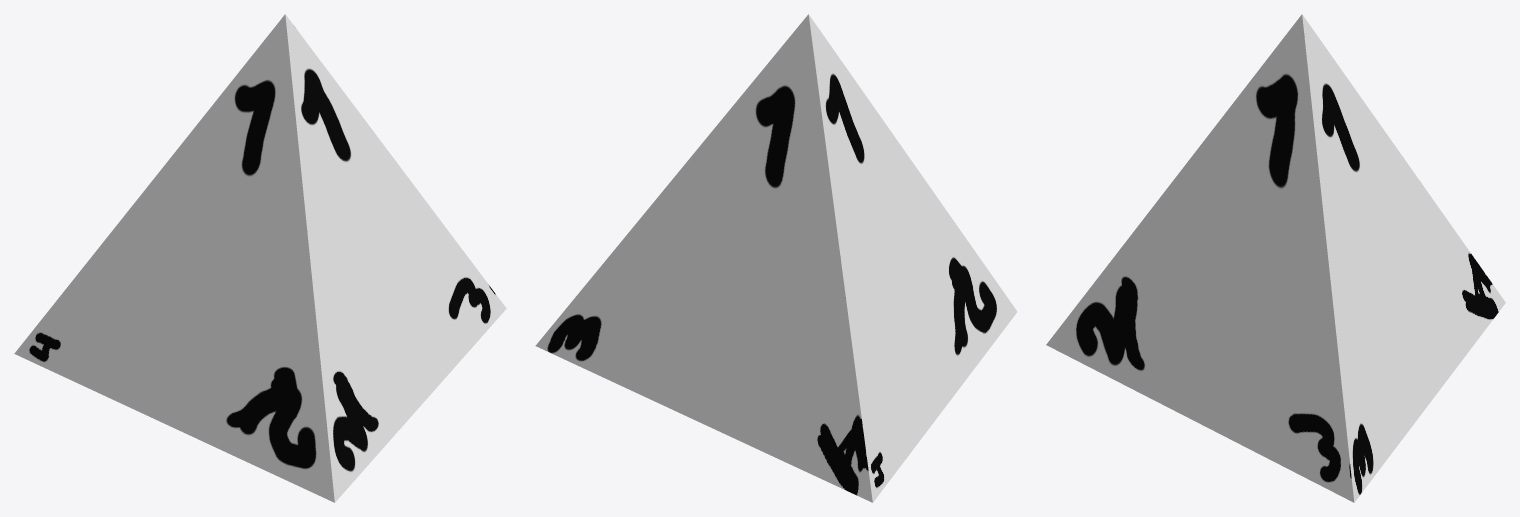
3 views of the same model, side by side, from view 1: azimuth 30°, elevation 25°; view 2: azimuth 150°, elevation 25°; view 3: azimuth 270°, elevation 25° (orthographic).
Visible parts, largest first — view 1: d4; view 2: d4; view 3: d4.
Part boxes in pixels (box(x1,y1,x2,y2)): d4: box(14, 14, 506, 502); d4: box(535, 14, 1017, 502); d4: box(1046, 14, 1505, 502).
Size of the model in its own units: 1.5 by 1.29 by 1.46.
Materials: 1 (1 with a texture image).
